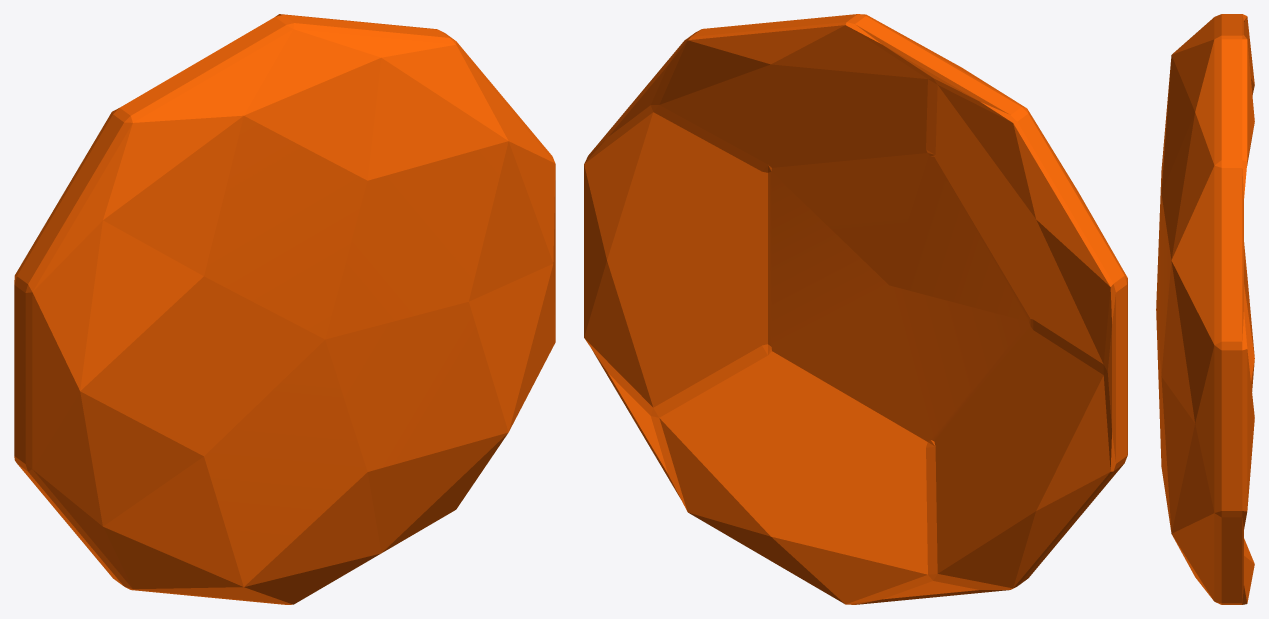
Rendered from Disc.glb.
3 renders of one model, left to right at view 1: azimuth 30°, elevation 25°; view 2: azimuth 150°, elevation 25°; view 3: azimuth 270°, elevation 25°, orthographic. The views are drawn at different scales.
Parts seen in each view (by area): view 1: Disc; view 2: Disc; view 3: Disc.
Boxes of the visible parts, left/top/right/bottom form: Disc: left=14, top=14, right=555, bottom=604; Disc: left=584, top=14, right=1127, bottom=604; Disc: left=1156, top=14, right=1254, bottom=604.
Size of the model in its own units: 0.2465 by 0.258 by 0.0424.
Materials: 1 (1 with a texture image).
